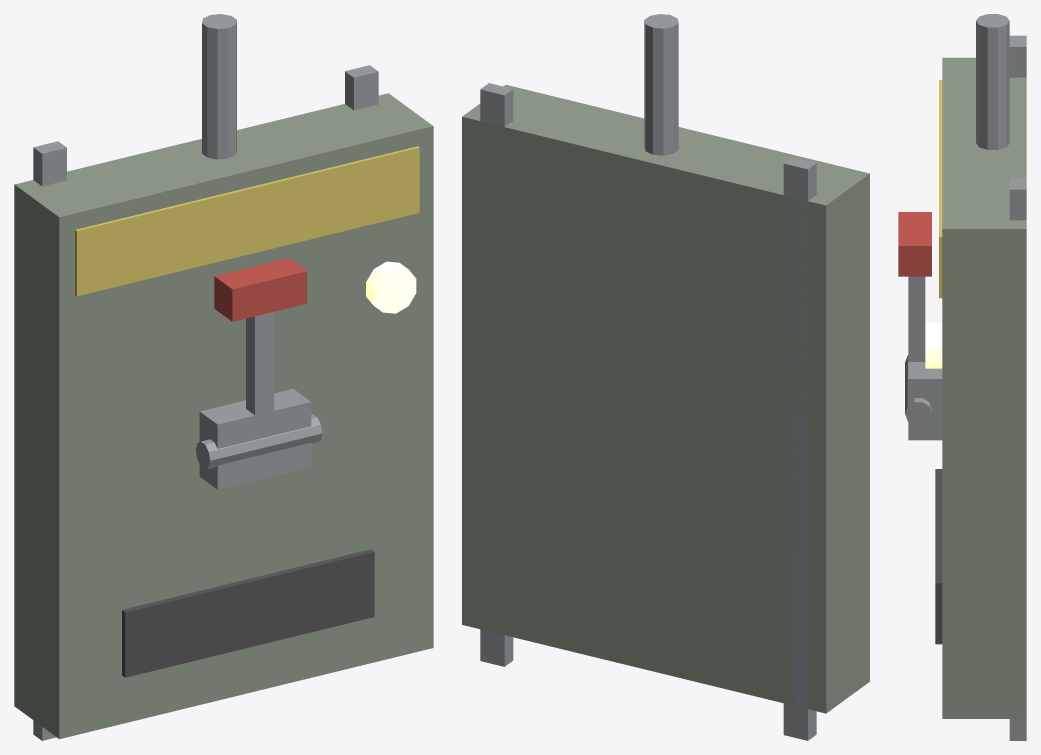
Rendered from power_switch.glb.
3 views of the same model, side by side, from view 1: azimuth 30°, elevation 25°; view 2: azimuth 150°, elevation 25°; view 3: azimuth 270°, elevation 25° (orthographic). The views are drawn at different scales.
Visible parts, largest first — view 1: panel, lever; view 2: panel; view 3: panel, lever.
Part boxes in pixels (x1=…): panel: x1=14, y1=14, x2=433, y2=740; lever: x1=195, y1=258, x2=322, y2=469; panel: x1=462, y1=14, x2=869, y2=740; panel: x1=908, y1=14, x2=1026, y2=740; lever: x1=898, y1=212, x2=931, y2=425.
Bounding box in the file's own units: 1.2 × 2.1 × 0.38.
